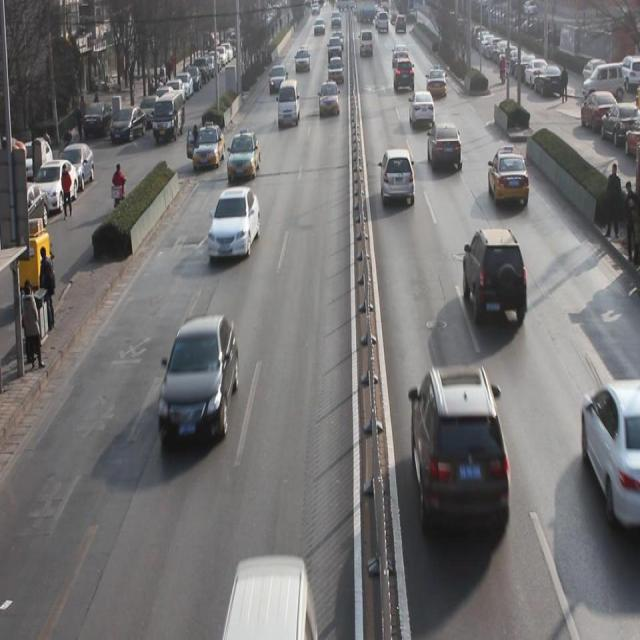car: (408, 367, 511, 541), (158, 318, 240, 444), (462, 224, 530, 332), (582, 382, 626, 526), (208, 187, 260, 261), (488, 147, 531, 212), (379, 148, 417, 209), (428, 121, 462, 178), (227, 132, 260, 182), (191, 124, 225, 170), (409, 94, 435, 132), (315, 81, 340, 118), (393, 59, 416, 94), (425, 66, 448, 100), (268, 62, 287, 94)
truck: (276, 80, 301, 131)
